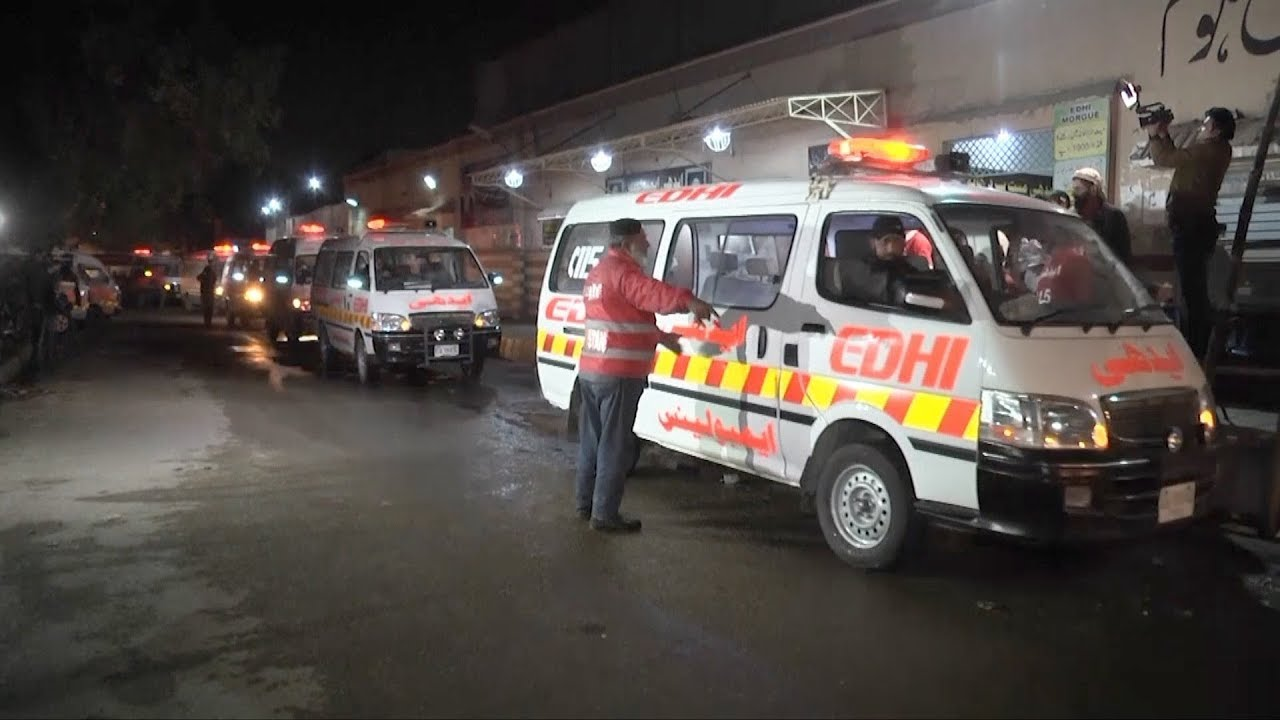ambulance: (534, 134, 1237, 573), (311, 216, 504, 383), (265, 223, 323, 345), (220, 242, 270, 325)
